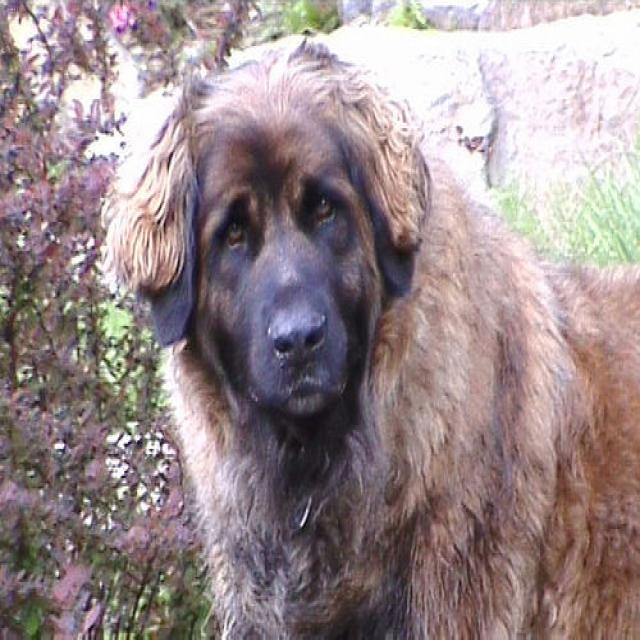dog-leonberger: (83, 26, 637, 637)
